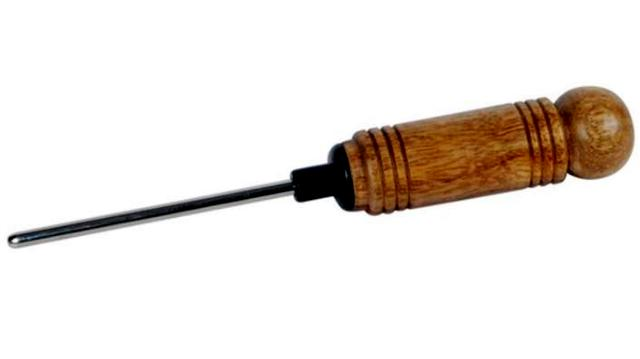ice pick: (4, 83, 638, 253)
